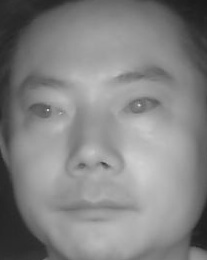eye: (121, 95, 164, 120), (28, 98, 69, 123)
mouth: (58, 187, 134, 230)
